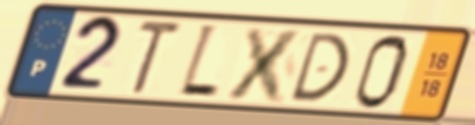0: (351, 32, 413, 112)
2: (51, 13, 129, 95)
D: (286, 31, 352, 104)
L: (174, 20, 223, 102)
T: (126, 17, 186, 97)
X: (220, 24, 310, 106)
